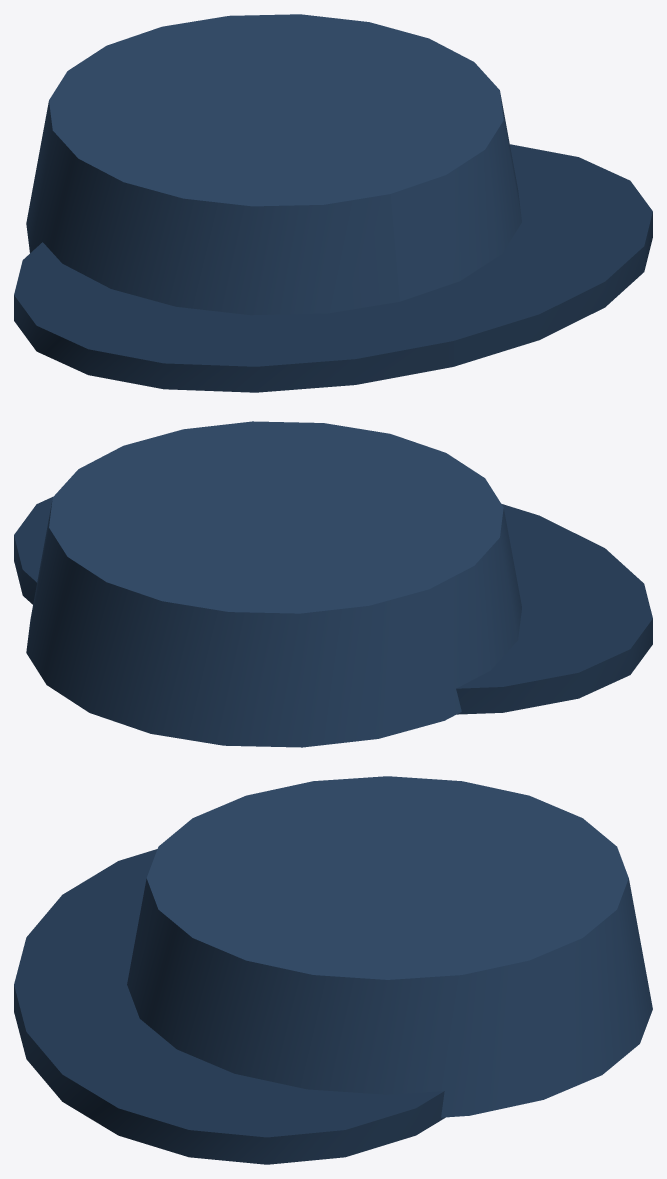
The model's file is mailcap.glb.
The picture shows the model from 3 angles, top to bottom: view 1: azimuth 30°, elevation 25°; view 2: azimuth 150°, elevation 25°; view 3: azimuth 270°, elevation 25°; orthographic projection. The views are drawn at different scales.
Parts seen in each view (by area): view 1: mailcap; view 2: mailcap; view 3: mailcap.
Boxes of the visible parts, bbox=[...] form: mailcap: bbox=[14, 14, 652, 392]; mailcap: bbox=[14, 421, 652, 747]; mailcap: bbox=[14, 776, 652, 1164].
Size of the model in its own units: 0.6 by 0.1225 by 0.53.
